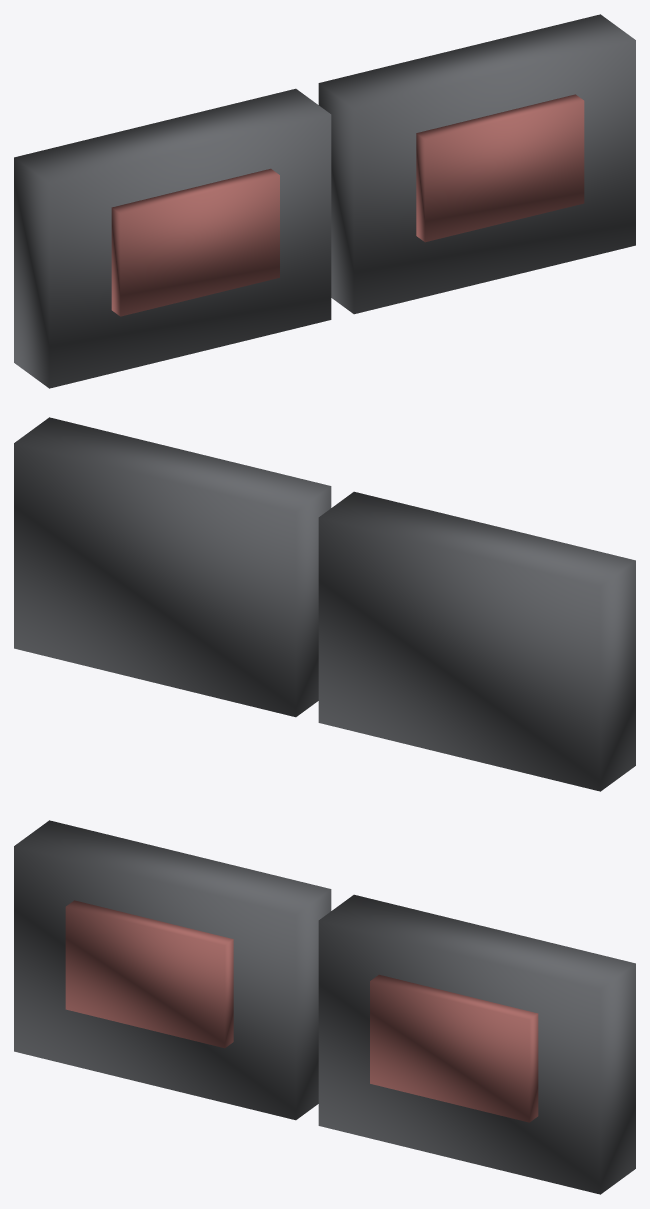
Rendered from take_a_number_display__cluster.glb.
3 views of the same model, one above another, from view 1: azimuth 30°, elevation 25°; view 2: azimuth 150°, elevation 25°; view 3: azimuth 330°, elevation 25° (orthographic).
Visible parts, largest first — view 1: world; view 2: world; view 3: world.
Boxes of the visible parts, x1,y1,x2,y2 form: world: (14,14,635,388); world: (14,417,635,791); world: (14,820,635,1194).
Bounding box in the file's own units: 0.9568 × 0.32 × 0.1275.
